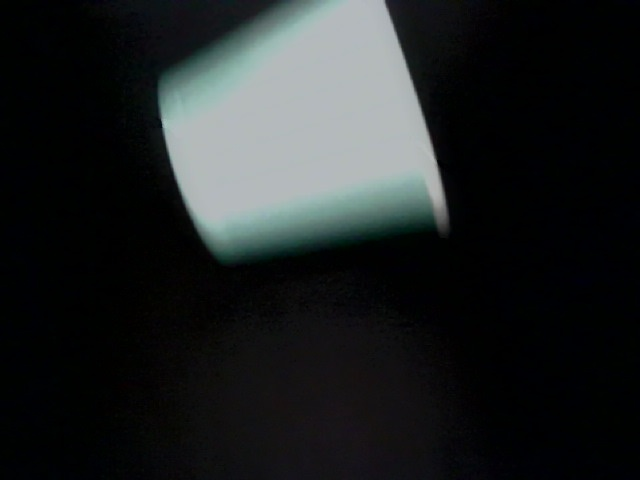KHSLJ: (7, 1, 475, 393)
